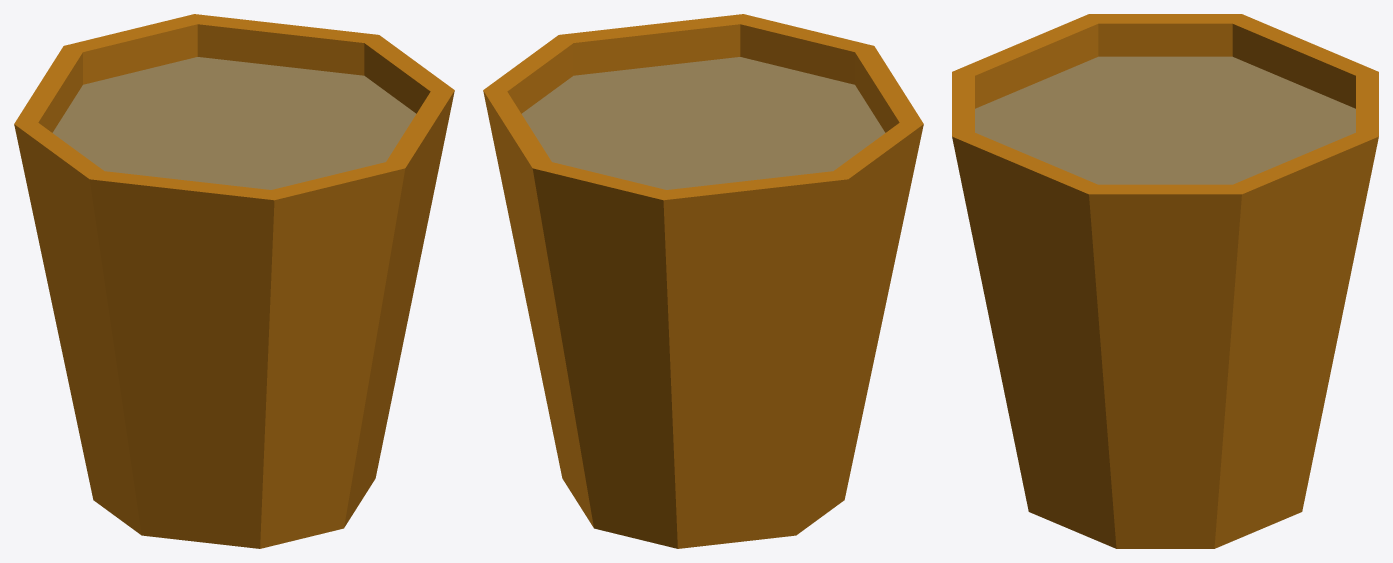
The model's file is 大中小花盆.glb.
3 renders of one model, left to right at view 1: azimuth 30°, elevation 25°; view 2: azimuth 150°, elevation 25°; view 3: azimuth 270°, elevation 25°, orthographic.
Parts seen in each view (by area): view 1: 花盆大; view 2: 花盆大; view 3: 花盆大.
Part boxes in pixels (bbox=[...]): 花盆大: bbox=[14, 14, 454, 548]; 花盆大: bbox=[483, 14, 923, 548]; 花盆大: bbox=[952, 14, 1378, 548].
Bounding box in the file's own units: 6 × 6 × 6.
